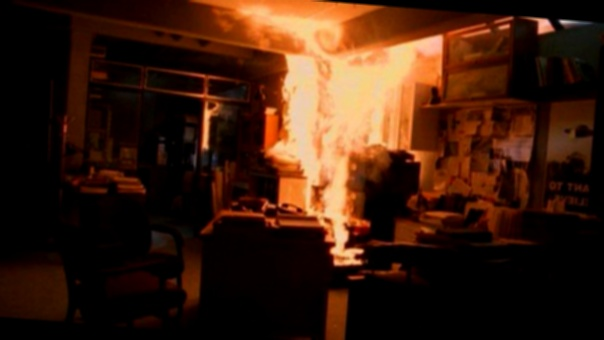fire: (215, 0, 452, 283)
